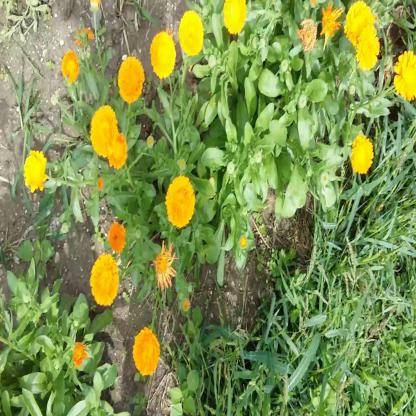marigold: (166, 176, 194, 228), (90, 104, 116, 156), (90, 258, 116, 305), (345, 0, 375, 40), (150, 32, 175, 78), (134, 329, 158, 375), (118, 57, 142, 102), (394, 50, 416, 98), (359, 24, 380, 69), (352, 132, 374, 174), (23, 150, 46, 188), (180, 13, 202, 52), (225, 0, 247, 35), (108, 134, 128, 171), (61, 49, 80, 85), (108, 220, 126, 254)
